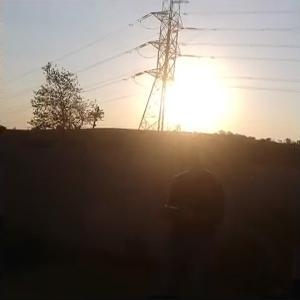follow: (156, 133, 227, 298)
